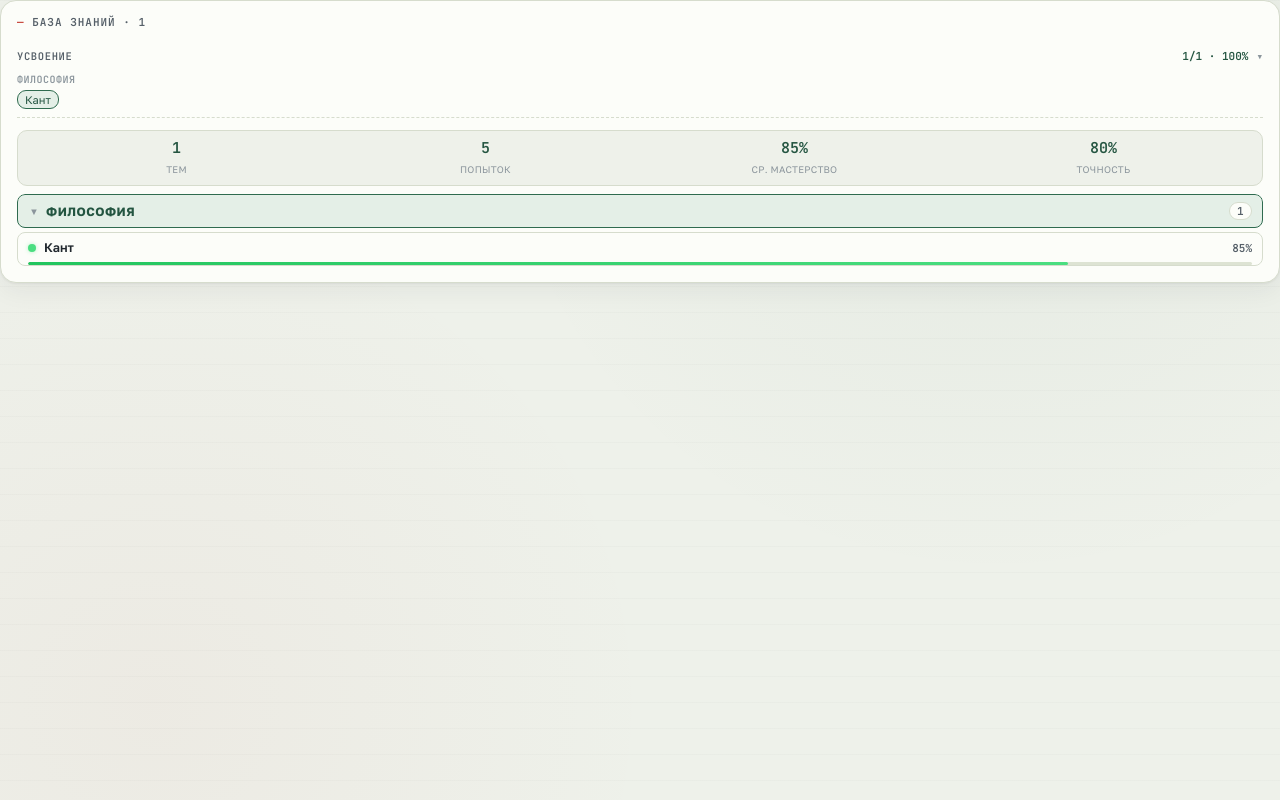
it: KnowledgeWikiPanel › открывает тему в модальном окне для чтения по клику
expect the button "▾ Философия 1" is shown: met, box [17,194,1263,228]
Click the button "Кант 85%".
click(32, 248)  # box [18,233,1262,262]
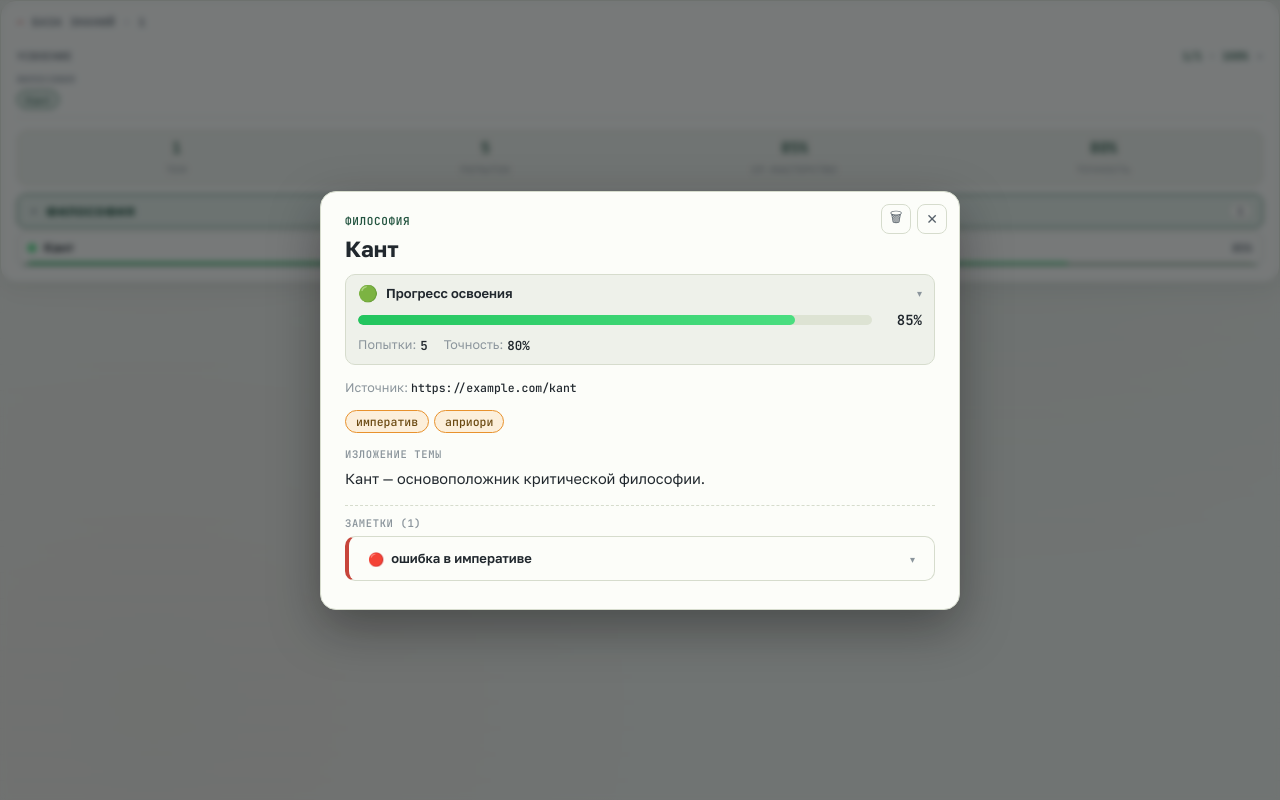
expect the dialog is shown: met, box [320,190,960,610]
expect the text "Кант" is shown: met, box [345,234,399,262]
expect the text "https://example.com/kant" is shown: met, box [411,380,577,395]
